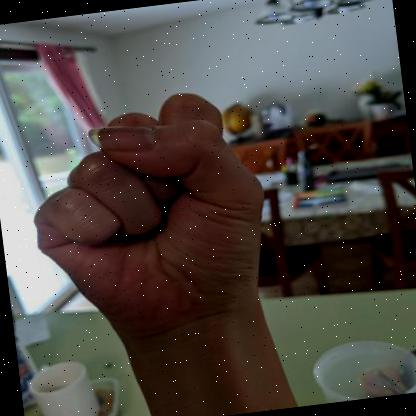S: (33, 92, 267, 344)
